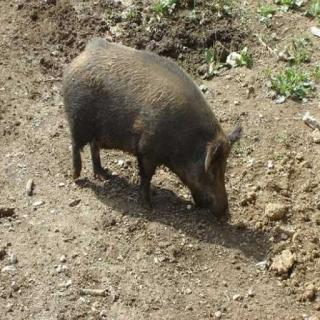Pig: (55, 39, 258, 230)
